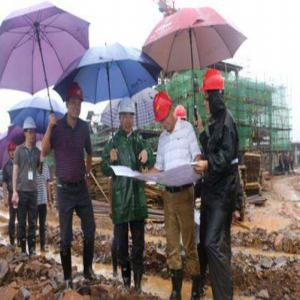red: (202, 70, 226, 114), (154, 93, 175, 130), (67, 82, 86, 119), (8, 140, 18, 158)
white: (118, 96, 136, 133), (23, 119, 38, 145)
